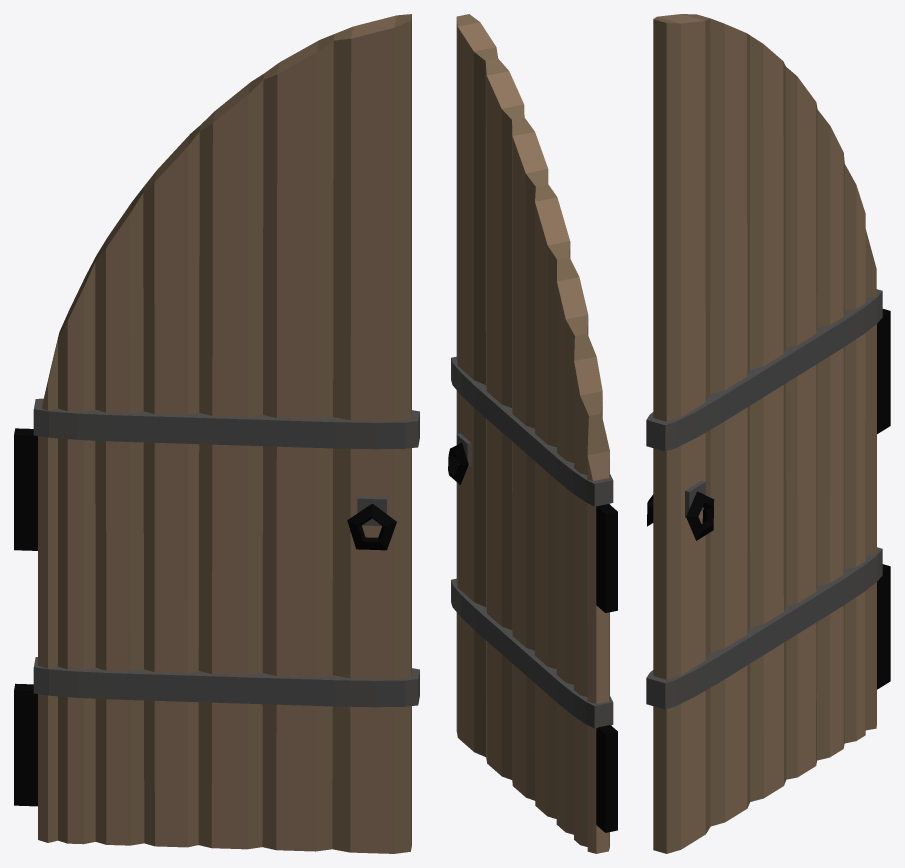
The model's file is church_door.fbx.
3 views of the same model, side by side, from view 1: azimuth 30°, elevation 25°; view 2: azimuth 150°, elevation 25°; view 3: azimuth 270°, elevation 25° (orthographic). The views are drawn at different scales.
Visible parts, largest first — view 1: church_door; view 2: church_door; view 3: church_door.
Boxes of the visible parts, <box> form: church_door: <box>14,14,419,853</box>; church_door: <box>448,14,617,853</box>; church_door: <box>646,14,890,853</box>.
Bounding box in the file's own units: 135 × 357 × 95.01.
